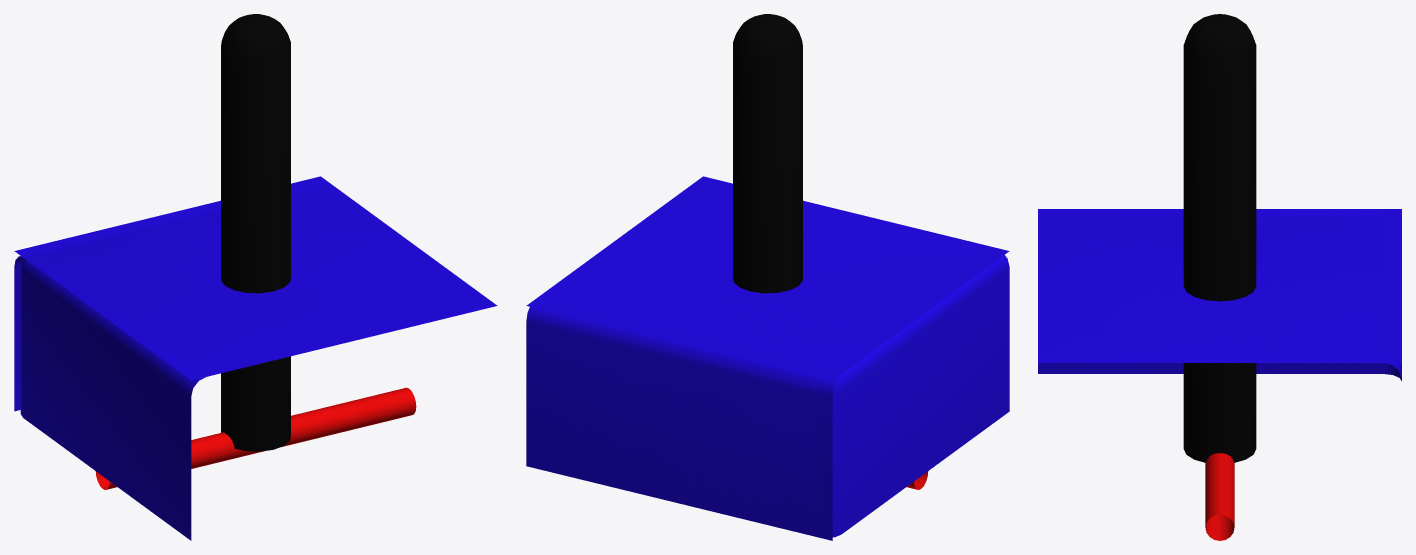
The model's file is ring.fbx.
The picture shows the model from 3 angles, left to right: view 1: azimuth 30°, elevation 25°; view 2: azimuth 150°, elevation 25°; view 3: azimuth 270°, elevation 25°; orthographic projection. The views are drawn at different scales.
Parts seen in each view (by area): view 1: Cube, Cylinder, Cube.002, Cube.001, Cylinder.001; view 2: Cube.001, Cube, Cube.002, Cylinder; view 3: Cube, Cube.002, Cylinder, Cube.001, Cylinder.001.
Part boxes in pixels (box(x1,y1,x2,y2)): Cube: box(20, 183, 497, 540); Cylinder: box(221, 14, 290, 451); Cube.002: box(14, 176, 496, 379); Cube.001: box(14, 183, 495, 411); Cylinder.001: box(95, 387, 416, 489); Cube.001: box(526, 176, 1009, 540); Cube: box(526, 176, 1009, 537); Cube.002: box(526, 177, 1007, 380); Cylinder: box(733, 14, 802, 293); Cube: box(1038, 217, 1401, 381); Cube.002: box(1038, 209, 1401, 362); Cylinder: box(1183, 14, 1256, 462); Cube.001: box(1038, 209, 1399, 370); Cylinder.001: box(1205, 453, 1234, 540).
Bounding box in the file's own units: 200 × 269 × 200.
